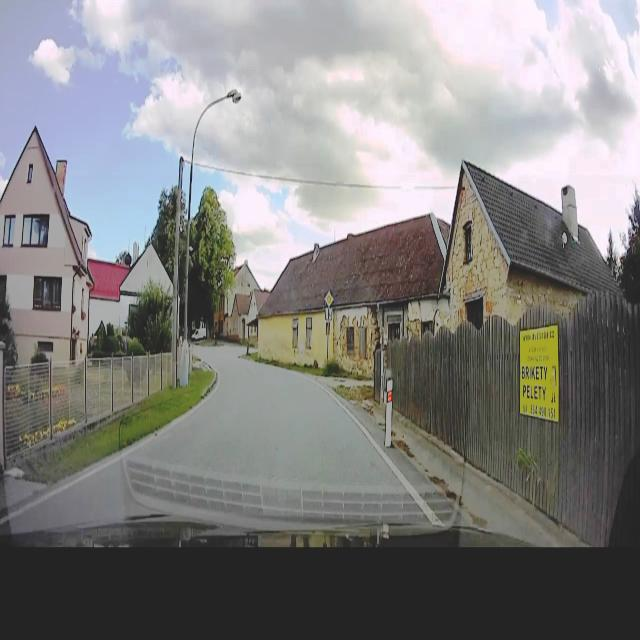Priority road: (324, 288, 334, 308)
